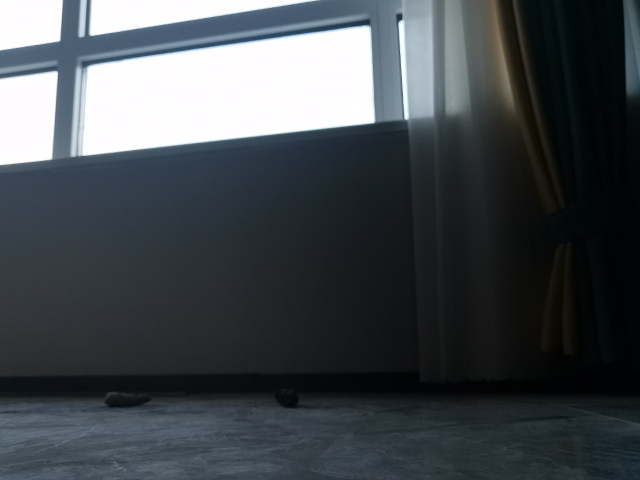curtain: (399, 1, 640, 384)
feces: (102, 389, 155, 408), (271, 386, 302, 410)
